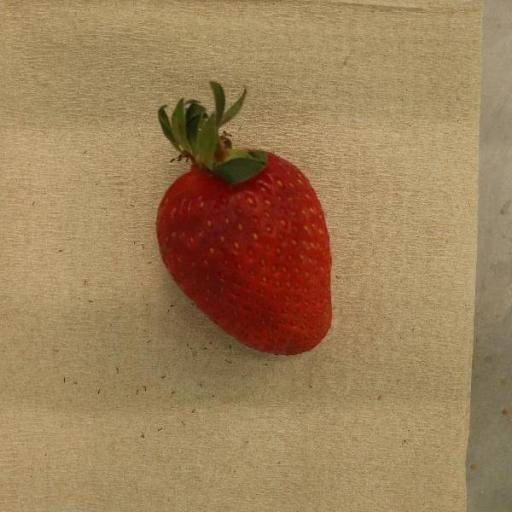Strawberry: (156, 81, 332, 356)
